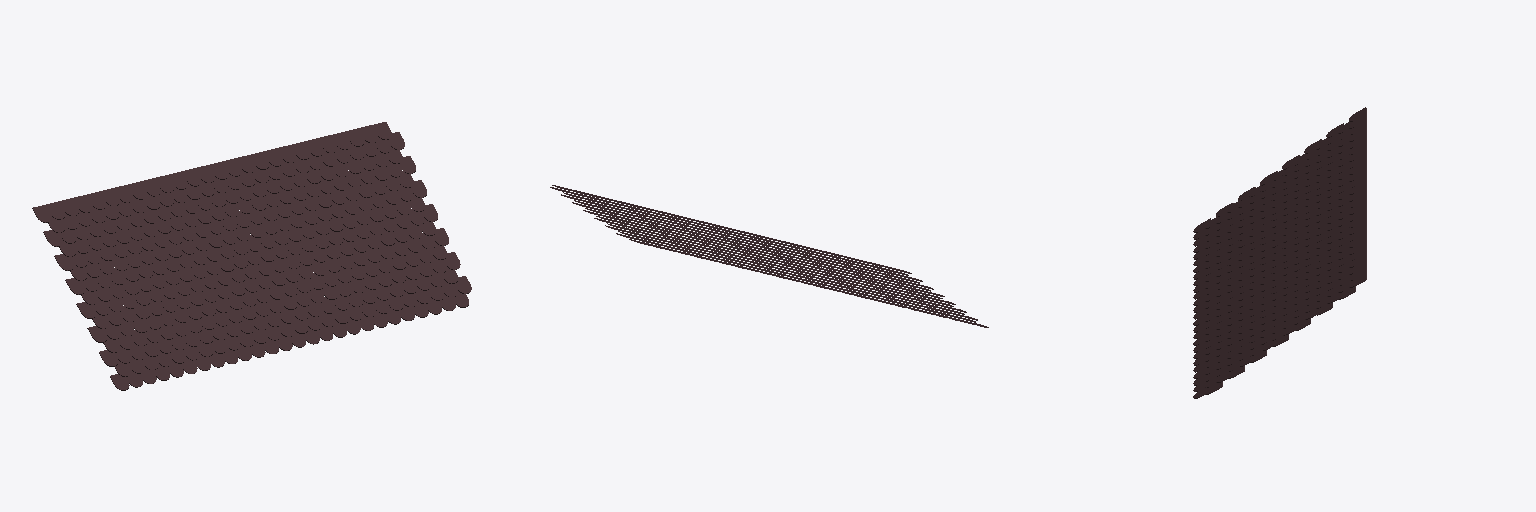
3 views of the same model, side by side, from view 1: azimuth 30°, elevation 25°; view 2: azimuth 150°, elevation 25°; view 3: azimuth 270°, elevation 25° (orthographic).
Parts seen in each view (by area): view 1: pCube78; view 2: pCube78; view 3: pCube78.
Boxes of the visible parts, box(x1,y1,x2,y2) form: pCube78: box(32, 122, 471, 390); pCube78: box(550, 185, 988, 327); pCube78: box(1193, 107, 1366, 398).
Bounding box in the file's own units: 10.14 × 3.26 × 4.21.
Materials: 1 (1 with a texture image).